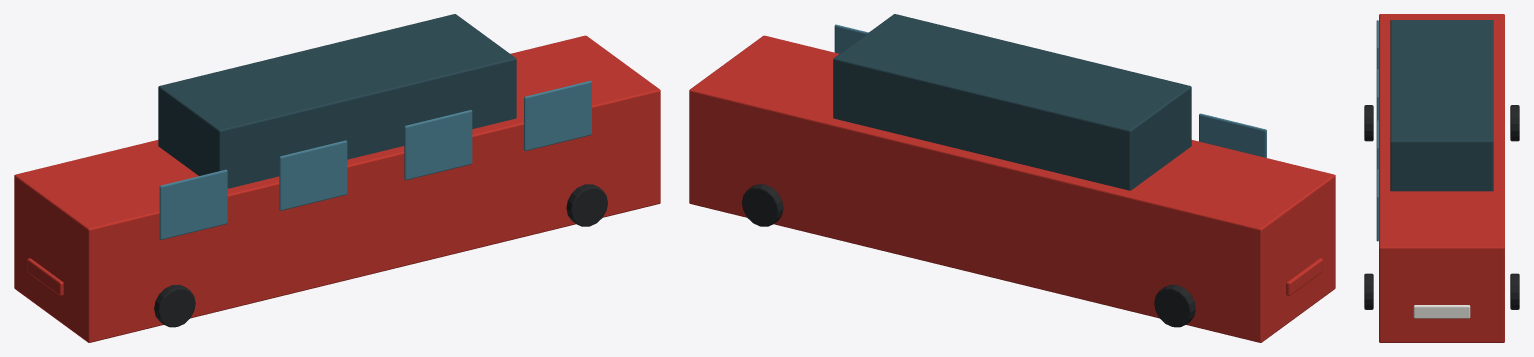
Rendered from Vehicle_012.glb.
3 views of the same model, side by side, from view 1: azimuth 30°, elevation 25°; view 2: azimuth 150°, elevation 25°; view 3: azimuth 270°, elevation 25° (orthographic). The views are drawn at different scales.
Visible parts, largest first — view 1: Vehicle_012; view 2: Vehicle_012; view 3: Vehicle_012.
Boxes of the visible parts, x1=… form: Vehicle_012: x1=14, y1=14, x2=660, y2=342; Vehicle_012: x1=689, y1=14, x2=1335, y2=342; Vehicle_012: x1=1364, y1=14, x2=1519, y2=342.
Size of the model in its own units: 11.3 by 3.2 by 3.08.
